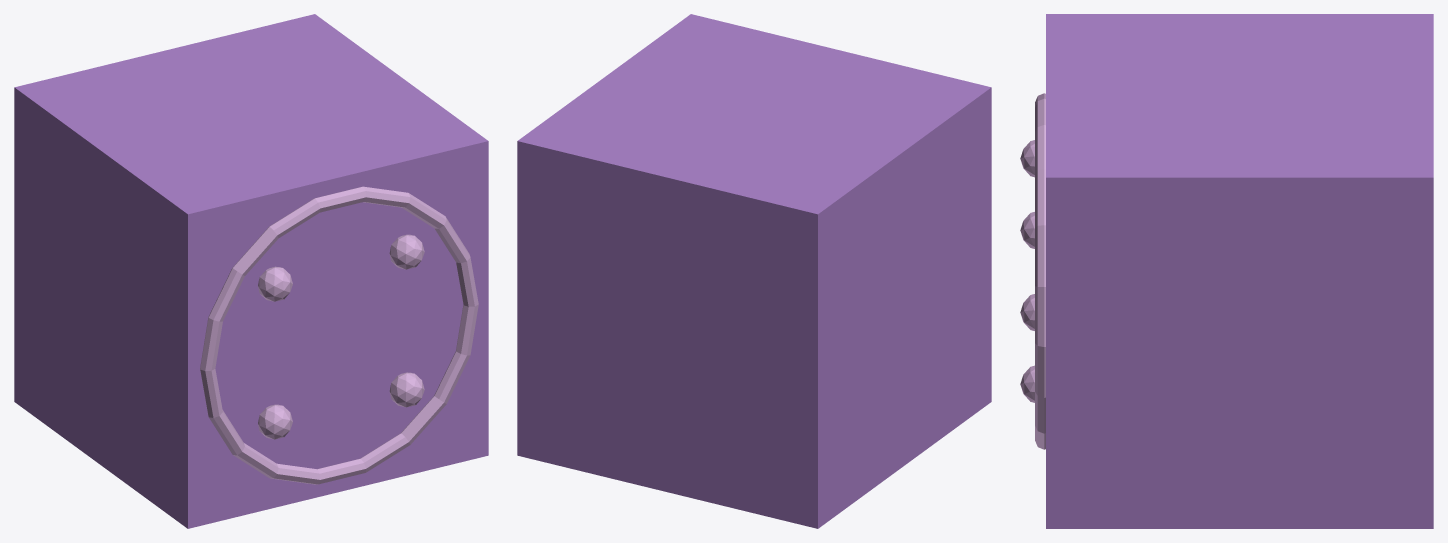
Rendered from psi.glb.
3 views of the same model, side by side, from view 1: azimuth 30°, elevation 25°; view 2: azimuth 150°, elevation 25°; view 3: azimuth 270°, elevation 25° (orthographic). The views are drawn at different scales.
Parts seen in each view (by area): view 1: world; view 2: world; view 3: world.
Boxes of the visible parts, x1,y1,x2,y2 form: world: (14,14,488,528); world: (517,14,991,528); world: (1020,14,1433,528).
Bounding box in the file's own units: 1.05 × 1.05 × 1.12.
